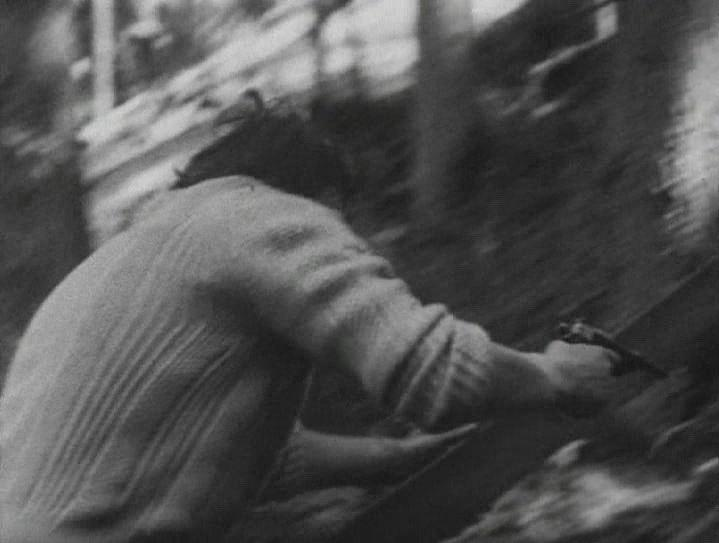gun: (536, 305, 687, 431)
